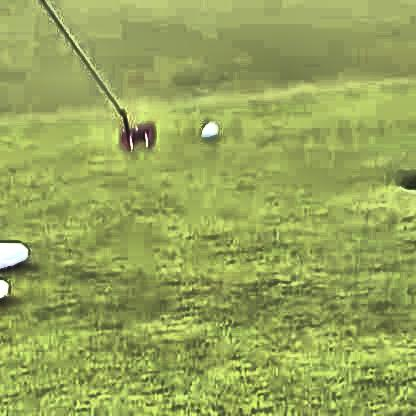golfball: (196, 120, 218, 139)
